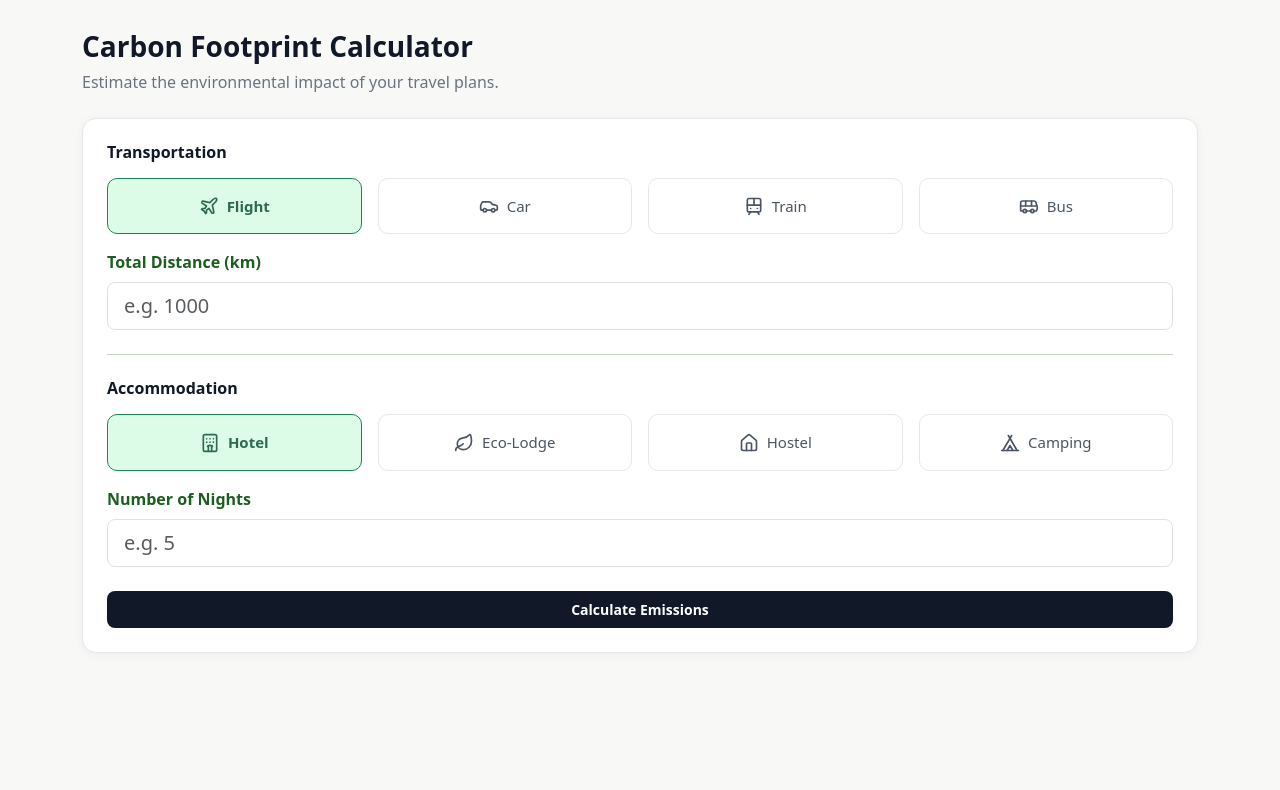
CalculatorPage › calculates moderate impact result for car and hostel
Click the button "Car": x=505, y=206 [378,178,632,234]
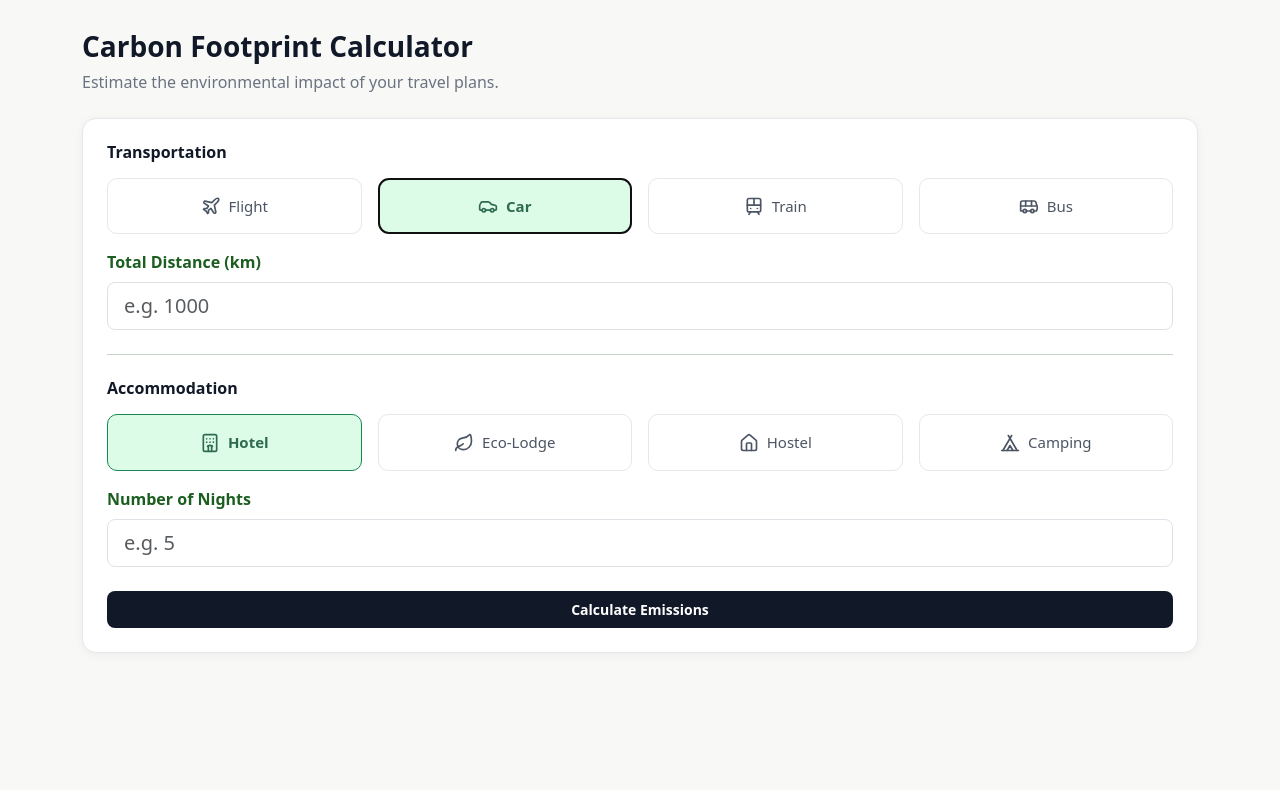
Click the button "Hostel": x=775, y=443 [648,414,902,471]
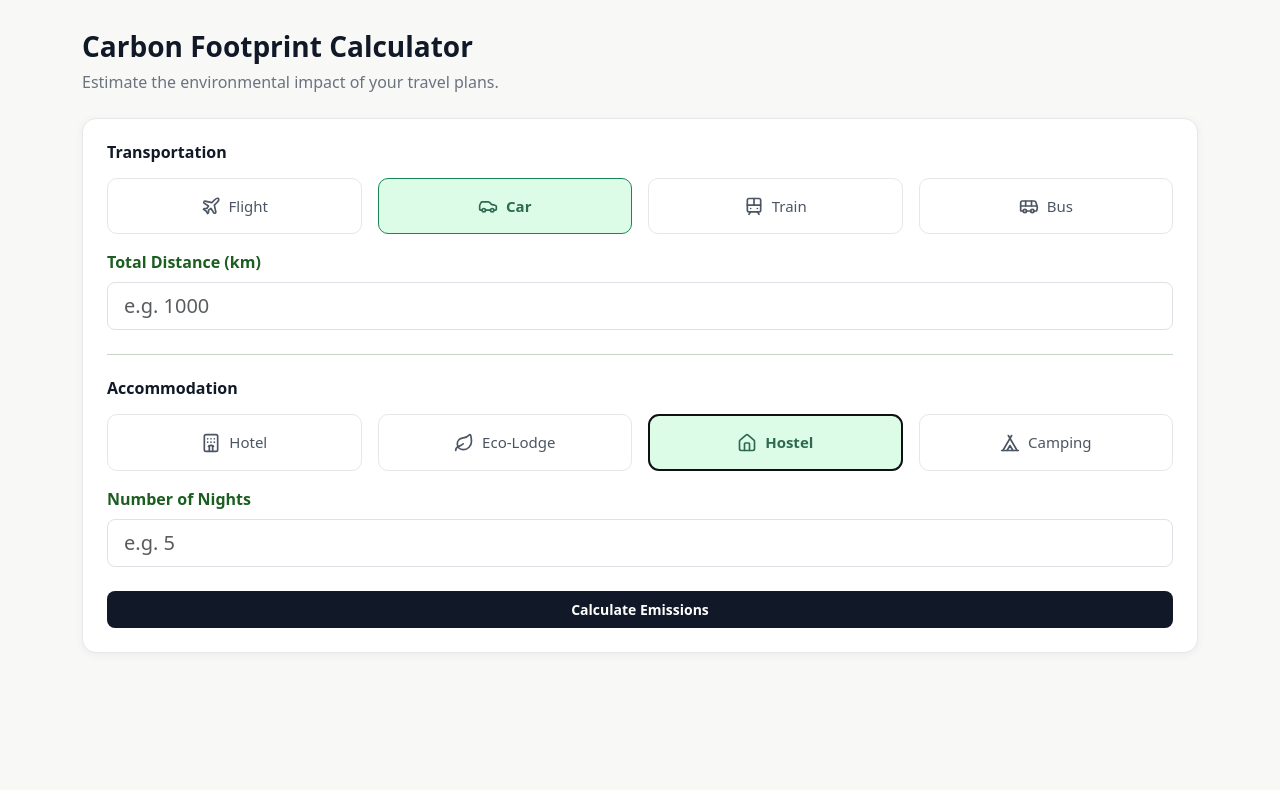
In the number field named "total distance": x=640, y=306 [107,282,1173,330], type "200"
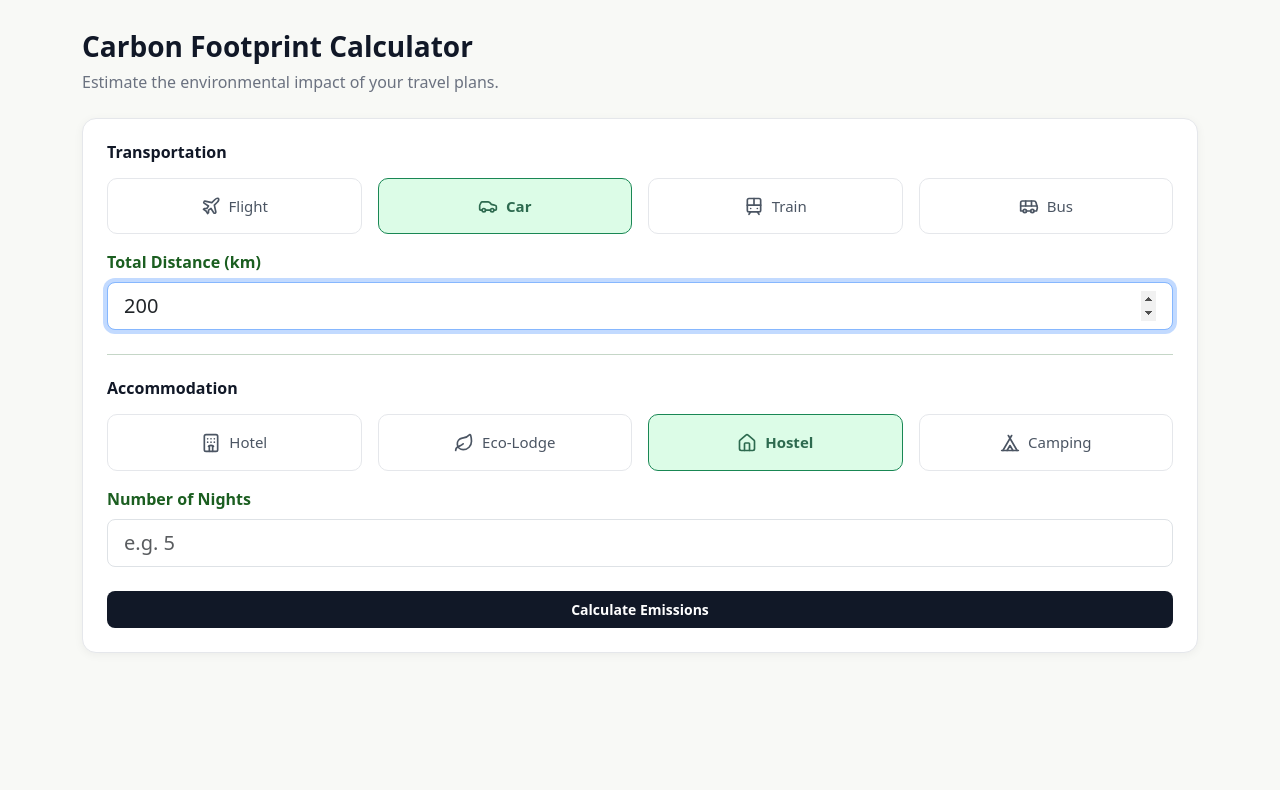
In the number field named "number of nights": x=640, y=543 [107,519,1173,567], type "3"
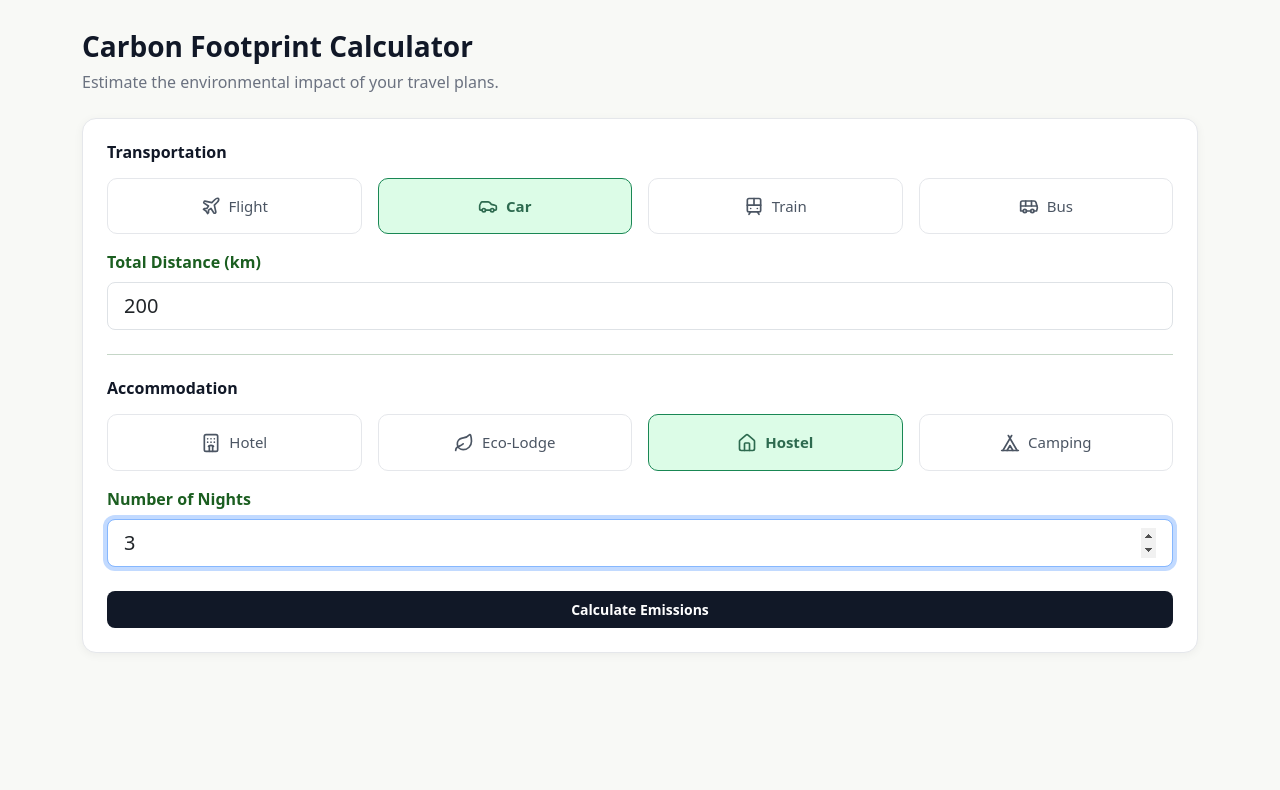
Click the button "Calculate Emissions": x=640, y=610 [107,591,1173,628]
(page scrolled)
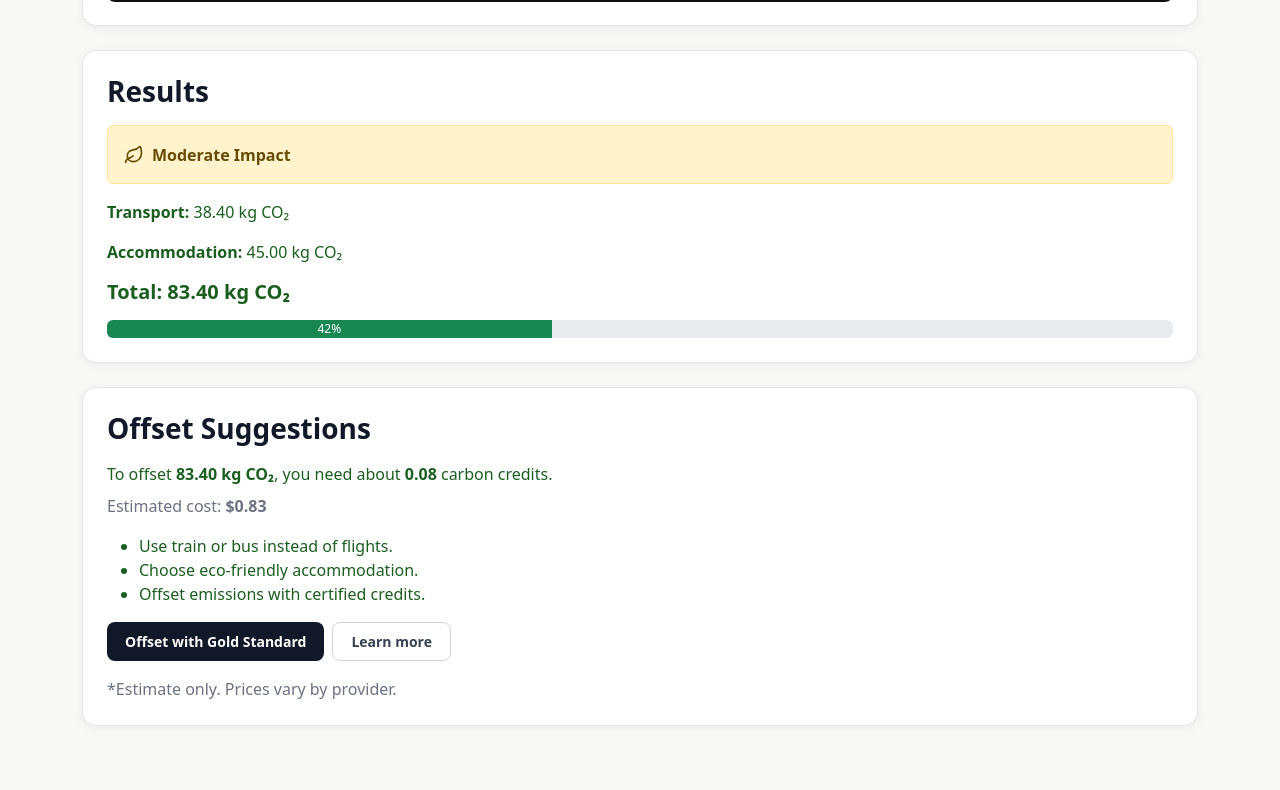
Now the text "38.40 kg CO₂" is shown, box [107,201,289,223]
Now the text "45.00 kg CO₂" is shown, box [107,241,342,263]
Now the heading "Total: 83.40 kg CO₂" is shown, box [107,278,290,305]
